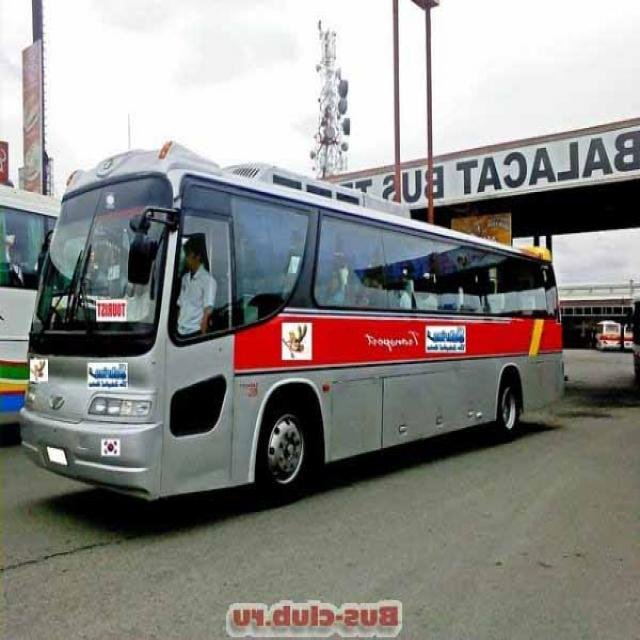bus: (14, 138, 569, 509)
